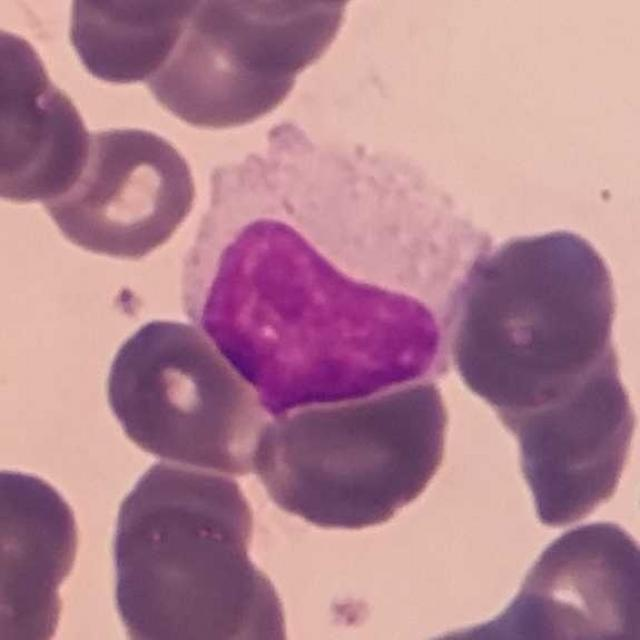Lymphocyte: (175, 116, 496, 417)
Platelets: (321, 586, 376, 634)
RBC: (440, 219, 626, 412), (246, 374, 457, 533), (97, 313, 267, 472), (35, 120, 204, 263), (104, 502, 262, 640), (146, 6, 313, 136), (508, 369, 640, 529), (105, 454, 262, 577), (507, 515, 640, 639), (0, 62, 95, 208), (143, 551, 297, 640), (186, 0, 359, 78), (0, 459, 87, 606), (65, 0, 197, 86), (442, 594, 626, 640), (0, 16, 53, 154), (0, 544, 71, 640), (196, 0, 363, 20)
